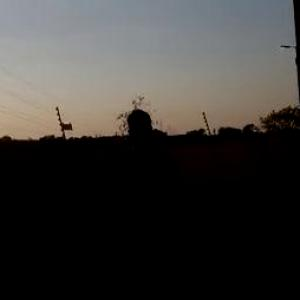follow: (106, 110, 188, 299)
